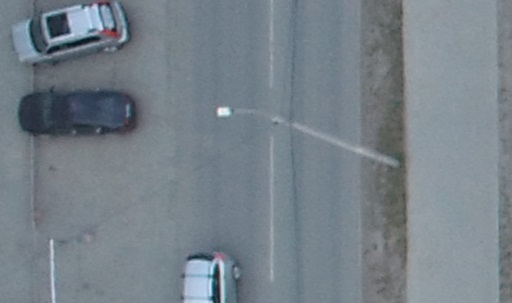opora: (216, 102, 402, 169)
